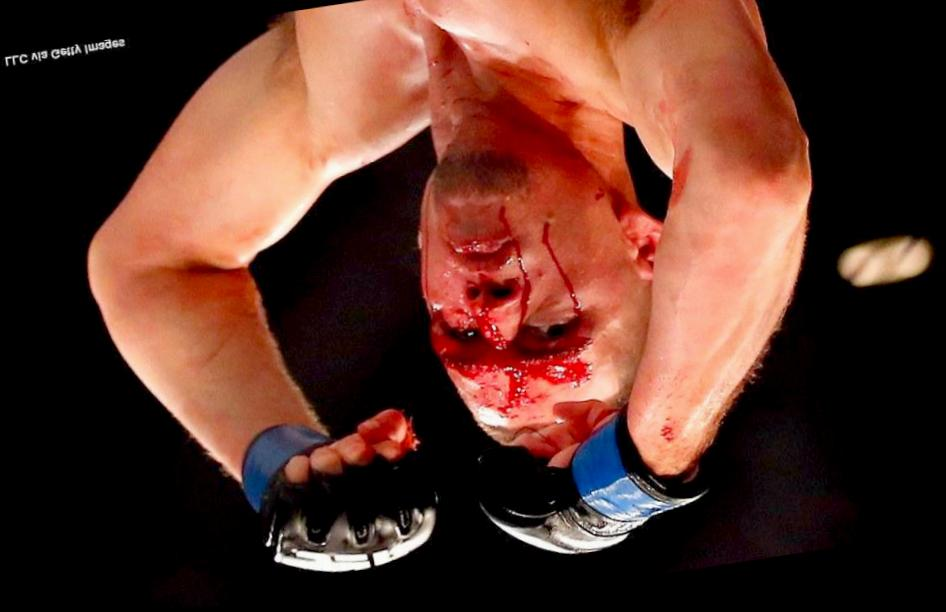Fire: (419, 189, 621, 432), (658, 423, 677, 448)
